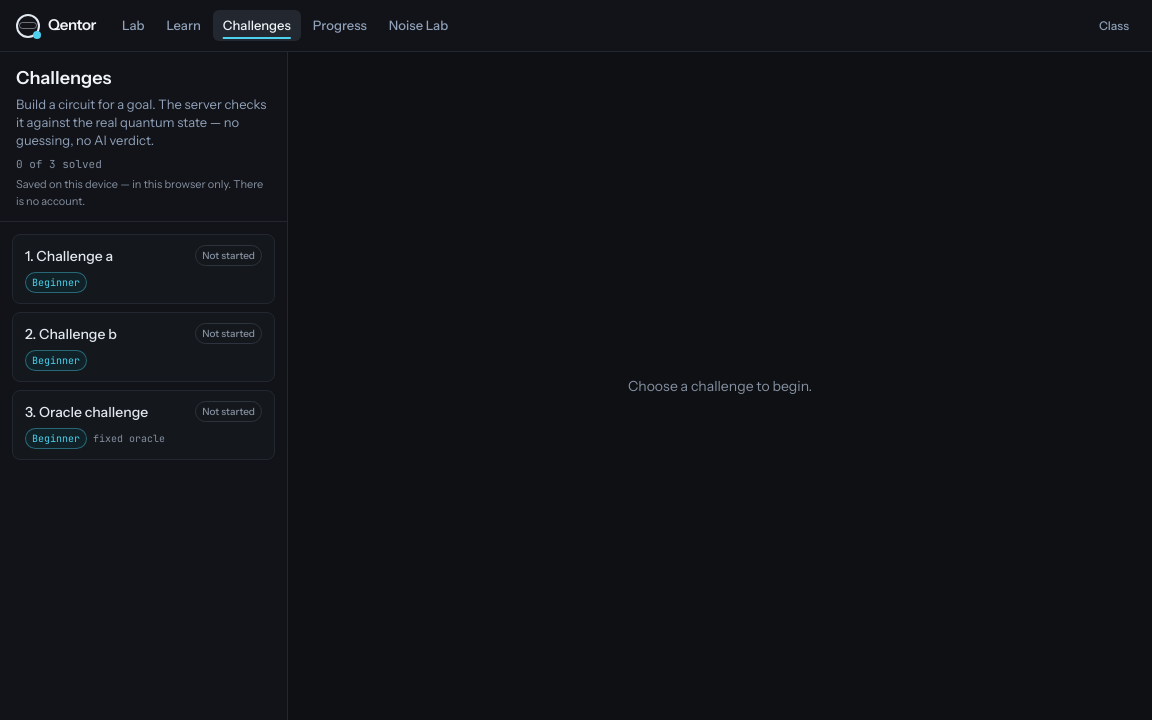
Scenario: the brief › shows the goal, the success condition and the constraints from the server
Expected: the navigation bar named "Challenges" is shown, [12,234,275,460]
Click the button "1. Challenge a Not started Beginner".
click(75, 256)  # box [12,234,275,304]
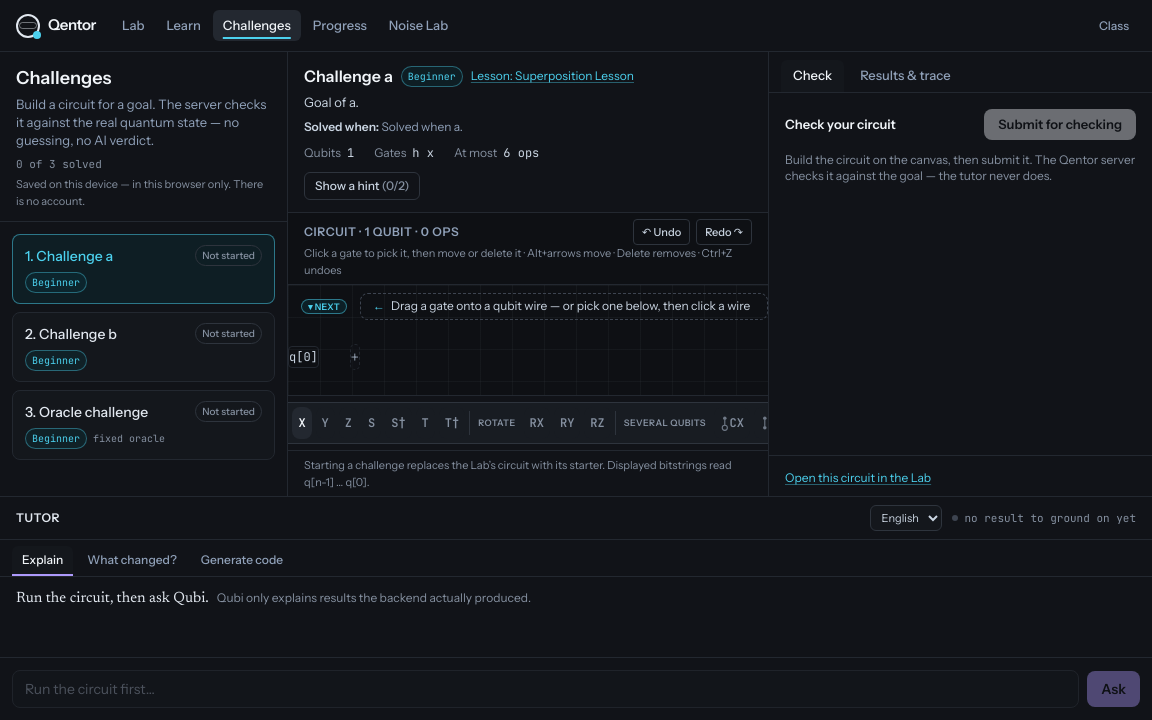
Expected: the heading "Challenge a" is shown, [304,64,393,88]
Expected: the text "Goal of a." is shown, [304,94,359,110]
Expected: the text "Solved when a." is shown, [381,119,463,134]
